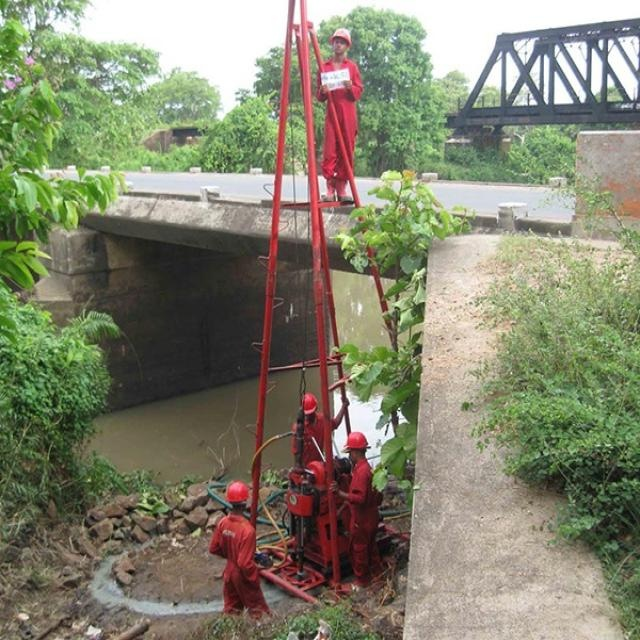Con_Casco: (224, 479, 249, 513), (331, 28, 352, 56)
